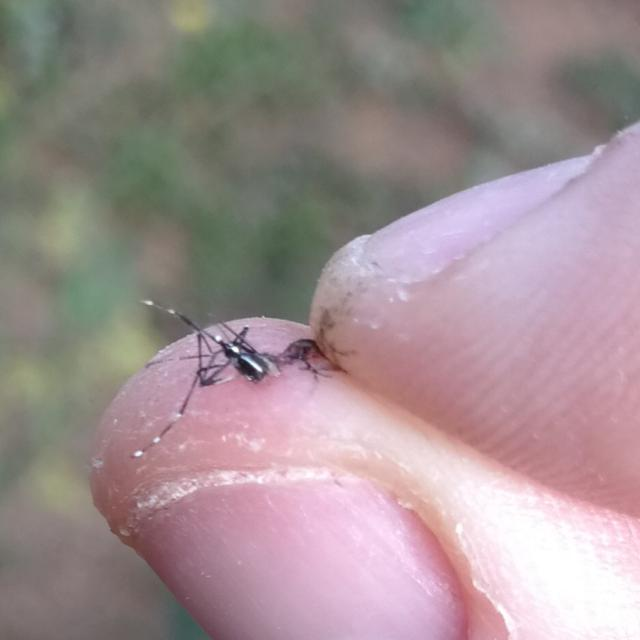albopictus: (125, 278, 352, 469)
